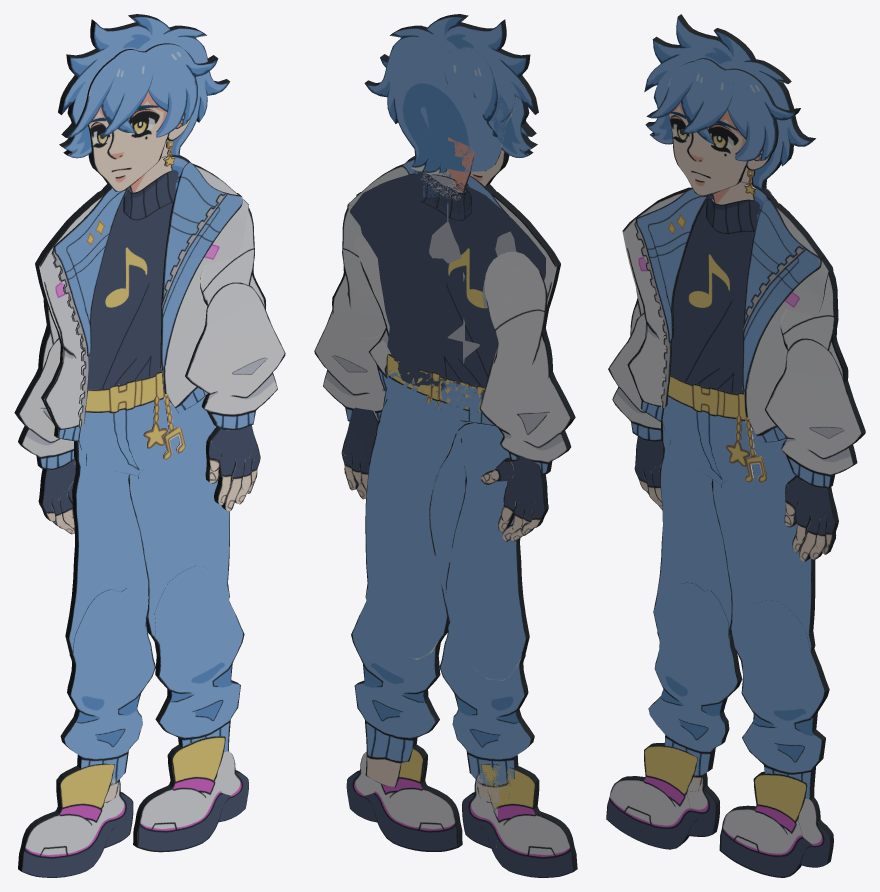
File: BeepTeste.fbx
The picture shows the model from 3 angles, left to right: view 1: azimuth 30°, elevation 25°; view 2: azimuth 150°, elevation 25°; view 3: azimuth 330°, elevation 25°; orthographic projection.
Parts seen in each view (by area): view 1: Beep_Modifiers3:polySurface96, Beep_Modifiers3:polySurface100, Beep_Modifiers3:Camisola, Beep_Modifiers3:polySurface71, Beep_Modifiers3:polySurface87, Beep_Modifiers3:polySurface98, Beep_Modifiers3:polySurface99, Beep_Modifiers3:polySurface95, Beep_Modifiers3:L_OverJacket, Beep_Modifiers3:Cabelo1, Beep_Modifiers3:Hips, Beep_Modifiers3:R_OverJacket (+19 smaller); view 2: Beep_Modifiers3:Camisola, Beep_Modifiers3:polySurface71, Beep_Modifiers3:polySurface98, Beep_Modifiers3:Cabelo1, Beep_Modifiers3:polySurface96, Beep_Modifiers3:polySurface100, Beep_Modifiers3:polySurface103, Beep_Modifiers3:polySurface99, Beep_Modifiers3:polySurface104, Beep_Modifiers3:polySurface95, Beep_Modifiers3:polySurface87, Beep_Modifiers3:polySurface85 (+14 smaller); view 3: Beep_Modifiers3:polySurface96, Beep_Modifiers3:polySurface100, Beep_Modifiers3:Camisola, Beep_Modifiers3:polySurface71, Beep_Modifiers3:polySurface87, Beep_Modifiers3:polySurface98, Beep_Modifiers3:polySurface99, Beep_Modifiers3:polySurface95, Beep_Modifiers3:L_OverJacket, Beep_Modifiers3:Cabelo1, Beep_Modifiers3:L_Casaco, Beep_Modifiers3:R_OverJacket (+18 smaller).
Part boxes in pixels (x1,y1,x2,y2): Beep_Modifiers3:polySurface96: (151,565,244,751); Beep_Modifiers3:polySurface100: (60,588,155,802); Beep_Modifiers3:Camisola: (88,187,172,389); Beep_Modifiers3:polySurface71: (128,428,229,638); Beep_Modifiers3:polySurface87: (185,282,285,430); Beep_Modifiers3:polySurface98: (65,441,148,656); Beep_Modifiers3:polySurface99: (18,763,116,877); Beep_Modifiers3:polySurface95: (133,736,230,852); Beep_Modifiers3:L_OverJacket: (160,162,242,368); Beep_Modifiers3:Cabelo1: (58,14,230,155); Beep_Modifiers3:Hips: (79,396,216,478); Beep_Modifiers3:R_OverJacket: (51,184,128,428); Beep_Modifiers3:Camisola: (349,174,545,400); Beep_Modifiers3:polySurface71: (365,398,466,659); Beep_Modifiers3:polySurface98: (429,420,529,680); Beep_Modifiers3:Cabelo1: (364,14,538,174); Beep_Modifiers3:polySurface96: (351,601,444,787); Beep_Modifiers3:polySurface100: (439,629,534,803); Beep_Modifiers3:polySurface103: (484,251,552,390); Beep_Modifiers3:polySurface99: (479,764,577,877); Beep_Modifiers3:polySurface104: (479,350,575,474); Beep_Modifiers3:polySurface95: (365,745,462,851); Beep_Modifiers3:polySurface87: (314,310,385,421); Beep_Modifiers3:polySurface85: (332,204,385,339); Beep_Modifiers3:polySurface96: (737,600,829,799); Beep_Modifiers3:polySurface100: (648,582,742,791); Beep_Modifiers3:Camisola: (670,194,754,393); Beep_Modifiers3:polySurface71: (711,470,815,652); Beep_Modifiers3:polySurface87: (764,338,865,488); Beep_Modifiers3:polySurface98: (653,422,732,639); Beep_Modifiers3:polySurface99: (606,743,699,849); Beep_Modifiers3:polySurface95: (719,771,812,877); Beep_Modifiers3:L_OverJacket: (742,198,824,389); Beep_Modifiers3:Cabelo1: (644,14,815,189); Beep_Modifiers3:L_Casaco: (744,203,832,442); Beep_Modifiers3:R_OverJacket: (634,187,710,408).
Bounding box in the file's own units: 29.52 × 91.3 × 2.48.
Materials: 1 (1 with a texture image).
